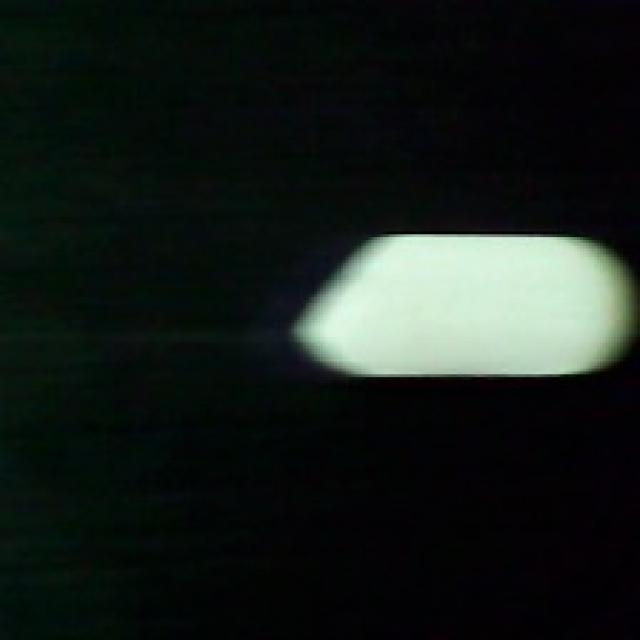defected: (289, 234, 640, 380)
